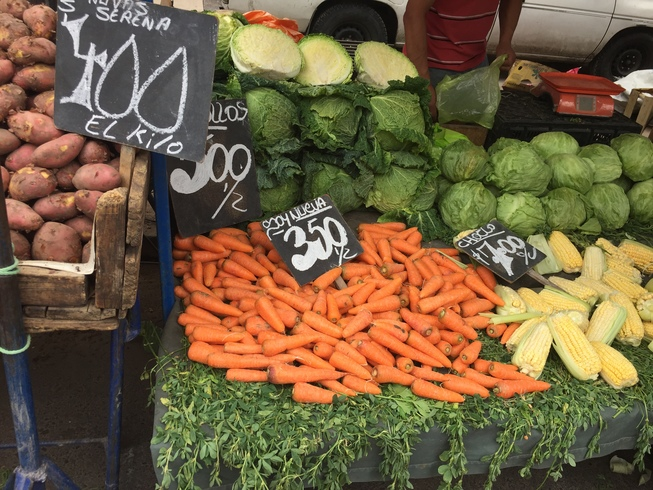precio: (55, 1, 211, 167), (161, 96, 268, 243), (261, 193, 367, 289), (450, 216, 550, 286)
